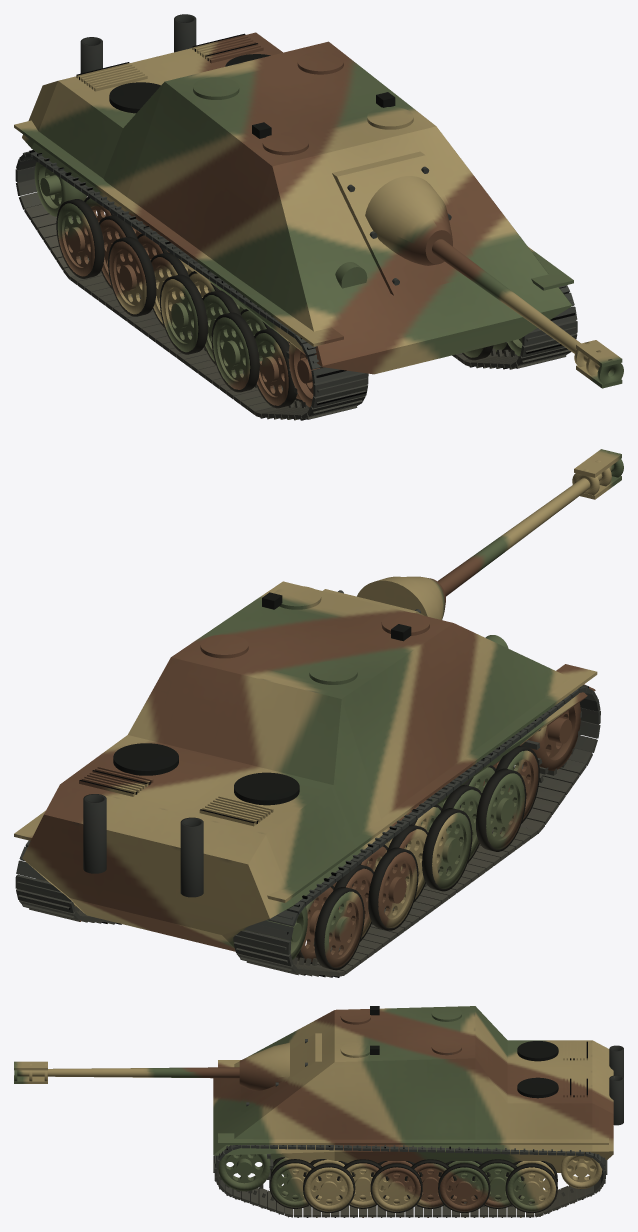
The model's file is jagdpanther.glb.
The picture shows the model from 3 angles, top to bottom: view 1: azimuth 30°, elevation 25°; view 2: azimuth 150°, elevation 25°; view 3: azimuth 270°, elevation 25°; orthographic projection. The views are drawn at different scales.
Visible parts, largest first — view 1: HullGeometry, TrackLeft, FixedGunCollar, CastSaukopf, Fender, Wheel_-1_5_1, Wheel_-1_1_1, Wheel_-1_7_1, Wheel_-1_3_1, GunBarrel, TrackRight, Wheel_-1_0_1 (+15 smaller); view 2: HullGeometry, TrackLeft, Fender, Wheel_-1_5_1, Wheel_-1_7_1, Wheel_-1_3_1, Wheel_-1_1_1, GunBarrel, CastSaukopf, TrackRight, Wheel_Drive_-1, Exhaust (+13 smaller); view 3: HullGeometry, TrackRight, Fender.001, GunBarrel, Wheel_1_5_1, Wheel_1_7_1, Wheel_1_1_1, Wheel_1_3_1, CastSaukopf, FixedGunCollar, Wheel_Drive_1, Wheel_1_0_1 (+15 smaller).
Part boxes in pixels (<box>): HullGeometry: <box>22,32,572,374</box>; TrackLeft: <box>15,150,368,420</box>; FixedGunCollar: <box>332,151,478,295</box>; CastSaukopf: <box>365,176,452,265</box>; Fender: <box>14,120,343,346</box>; Wheel_-1_5_1: <box>108,236,156,316</box>; Wheel_-1_1_1: <box>211,312,259,392</box>; Wheel_-1_7_1: <box>56,199,104,278</box>; Wheel_-1_3_1: <box>159,274,207,354</box>; GunBarrel: <box>432,239,614,376</box>; TrackRight: <box>452,285,577,369</box>; Wheel_-1_0_1: <box>254,328,296,408</box>; HullGeometry: <box>22,581,595,951</box>; TrackLeft: <box>233,685,600,977</box>; Fender: <box>267,664,597,902</box>; Wheel_-1_5_1: <box>368,847,418,930</box>; Wheel_-1_7_1: <box>314,887,364,970</box>; Wheel_-1_3_1: <box>422,808,472,891</box>; Wheel_-1_1_1: <box>476,768,526,851</box>; GunBarrel: <box>437,465,613,596</box>; CastSaukopf: <box>357,576,445,619</box>; TrackRight: <box>15,840,121,924</box>; Wheel_Drive_-1: <box>521,702,581,775</box>; Exhaust: <box>180,817,203,897</box>; HullGeometry: <box>213,1006,613,1172</box>; TrackRight: <box>213,1145,607,1217</box>; Fender.001: <box>218,1133,608,1144</box>; GunBarrel: <box>17,1067,239,1078</box>; Wheel_1_5_1: <box>438,1163,490,1212</box>; Wheel_1_7_1: <box>505,1163,557,1212</box>; Wheel_1_1_1: <box>303,1163,355,1212</box>; Wheel_1_3_1: <box>370,1163,422,1212</box>; CastSaukopf: <box>239,1042,289,1090</box>; FixedGunCollar: <box>240,1033,321,1112</box>; Wheel_Drive_1: <box>217,1154,273,1193</box>; Wheel_1_0_1: <box>269,1159,320,1208</box>.
Bounding box in the file's own units: 3.26 × 2.71 × 10.06.
Materials: 1 (1 with a texture image).
